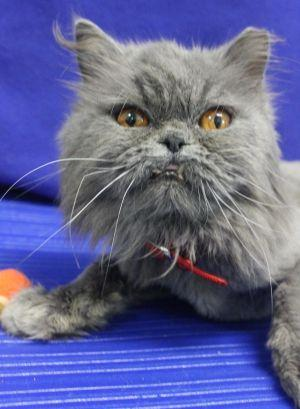persian: (44, 8, 289, 235)
